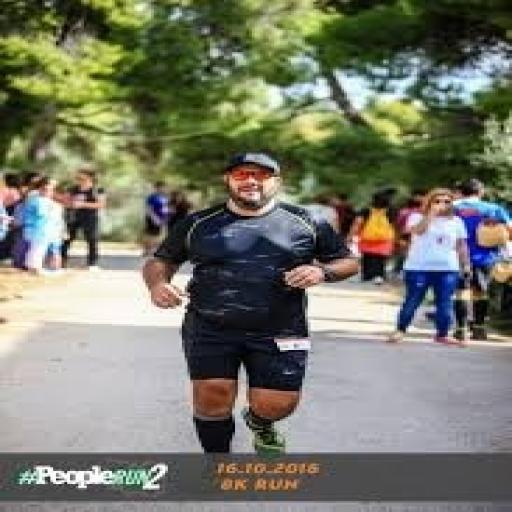running: (137, 149, 364, 456), (384, 186, 478, 348)
